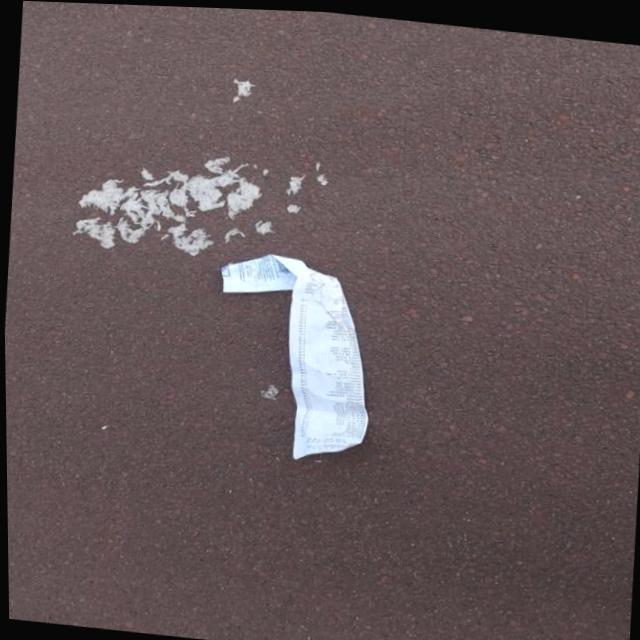Paper: (203, 242, 378, 466)
